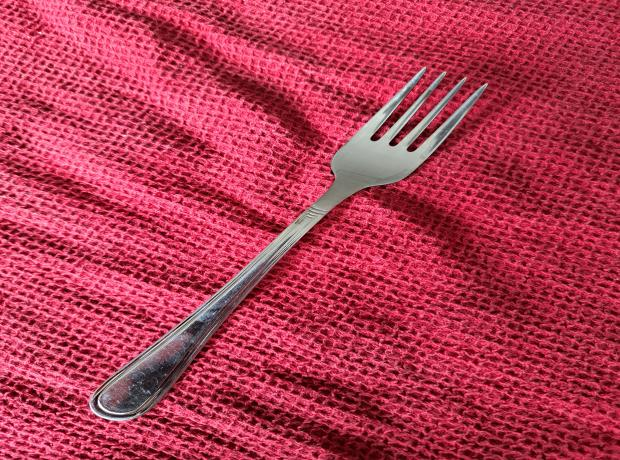metal: (80, 56, 484, 426)
